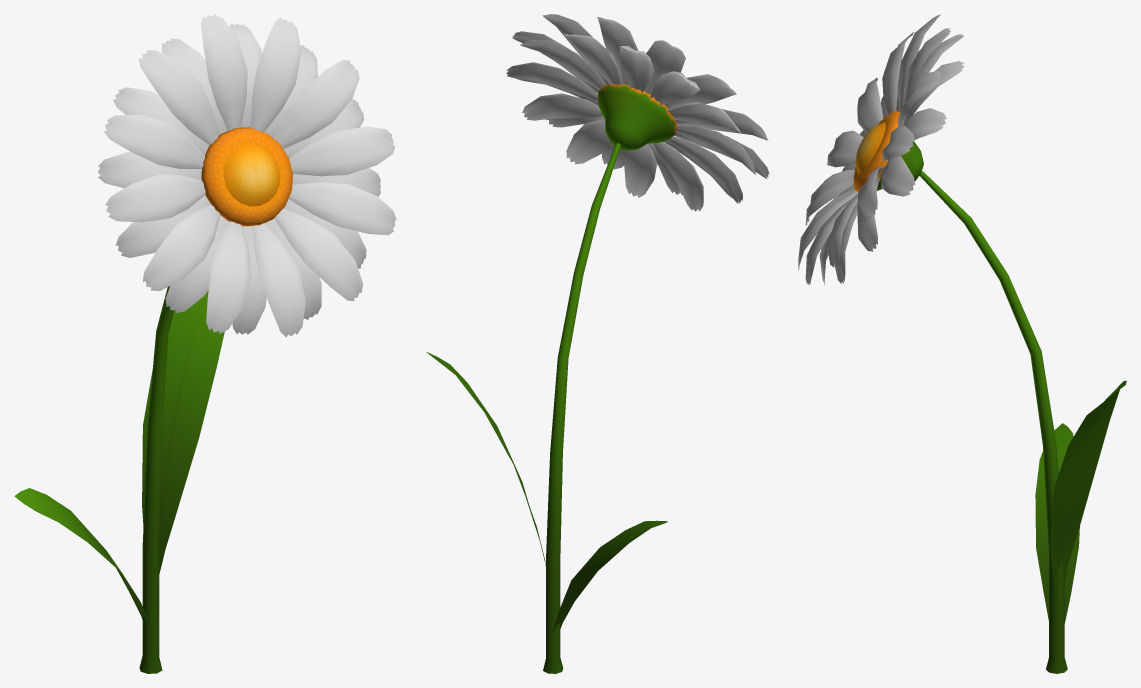
The model's file is Daisy.FBX.
3 renders of one model, left to right at view 1: azimuth 30°, elevation 25°; view 2: azimuth 150°, elevation 25°; view 3: azimuth 270°, elevation 25°, orthographic. The views are drawn at different scales.
Visible parts, largest first — view 1: Daisy; view 2: Daisy; view 3: Daisy.
Part boxes in pixels (<box>): Daisy: <box>14,14,396,673</box>; Daisy: <box>426,14,769,673</box>; Daisy: <box>798,14,1126,673</box>.
Size of the model in its own units: 41.88 by 96.96 by 45.2.
Materials: 1 (1 with a texture image).
